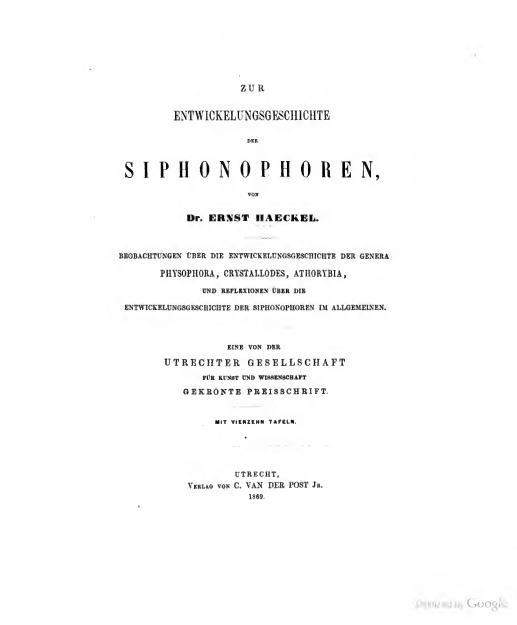NoiseZone: (392, 594, 517, 625)
TitlePageZone: (93, 68, 425, 527)
